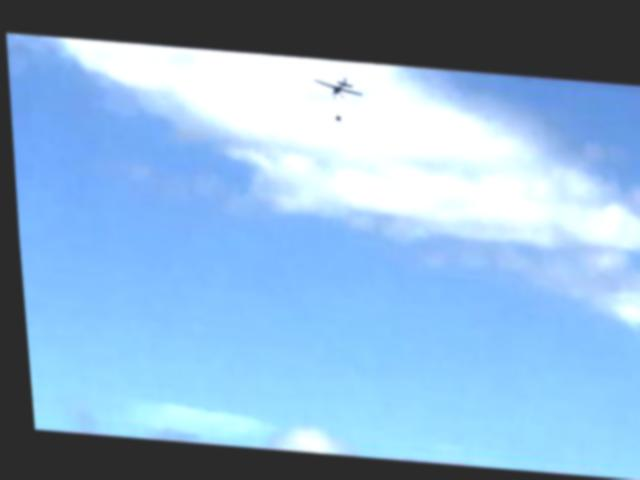uav: (308, 63, 366, 99)
